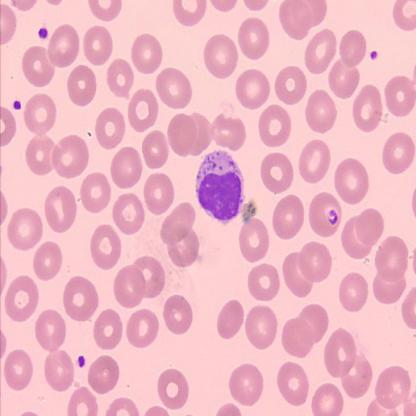Lymphocyte: (194, 149, 247, 226)
